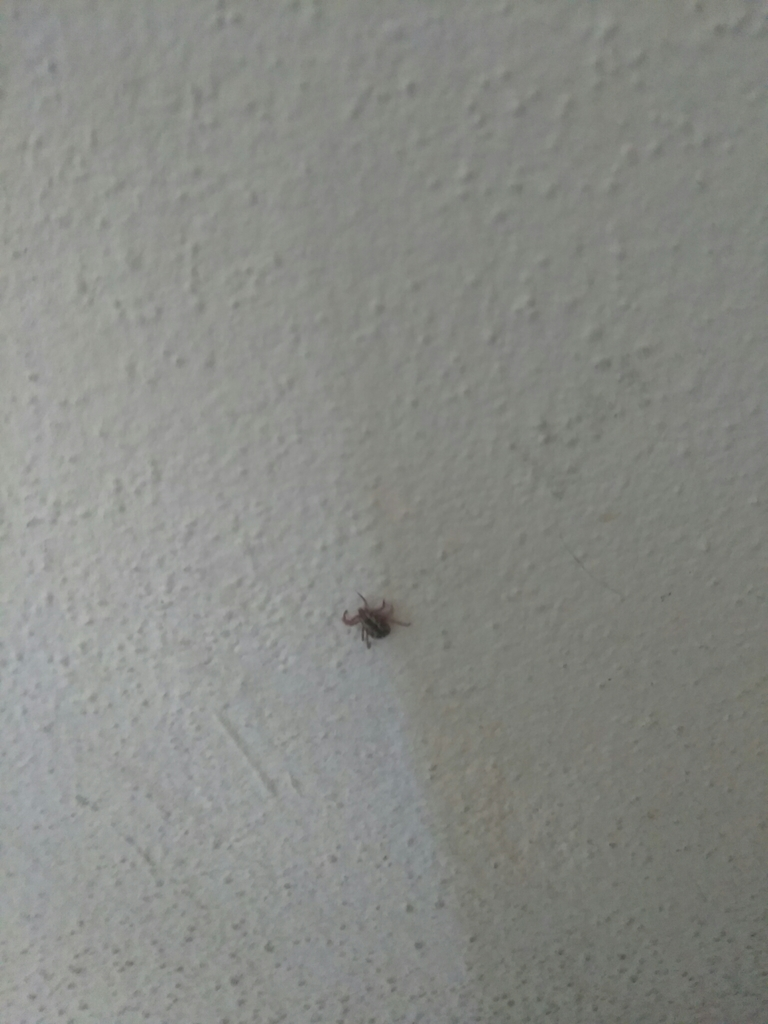garrapata: (323, 592, 421, 659)
